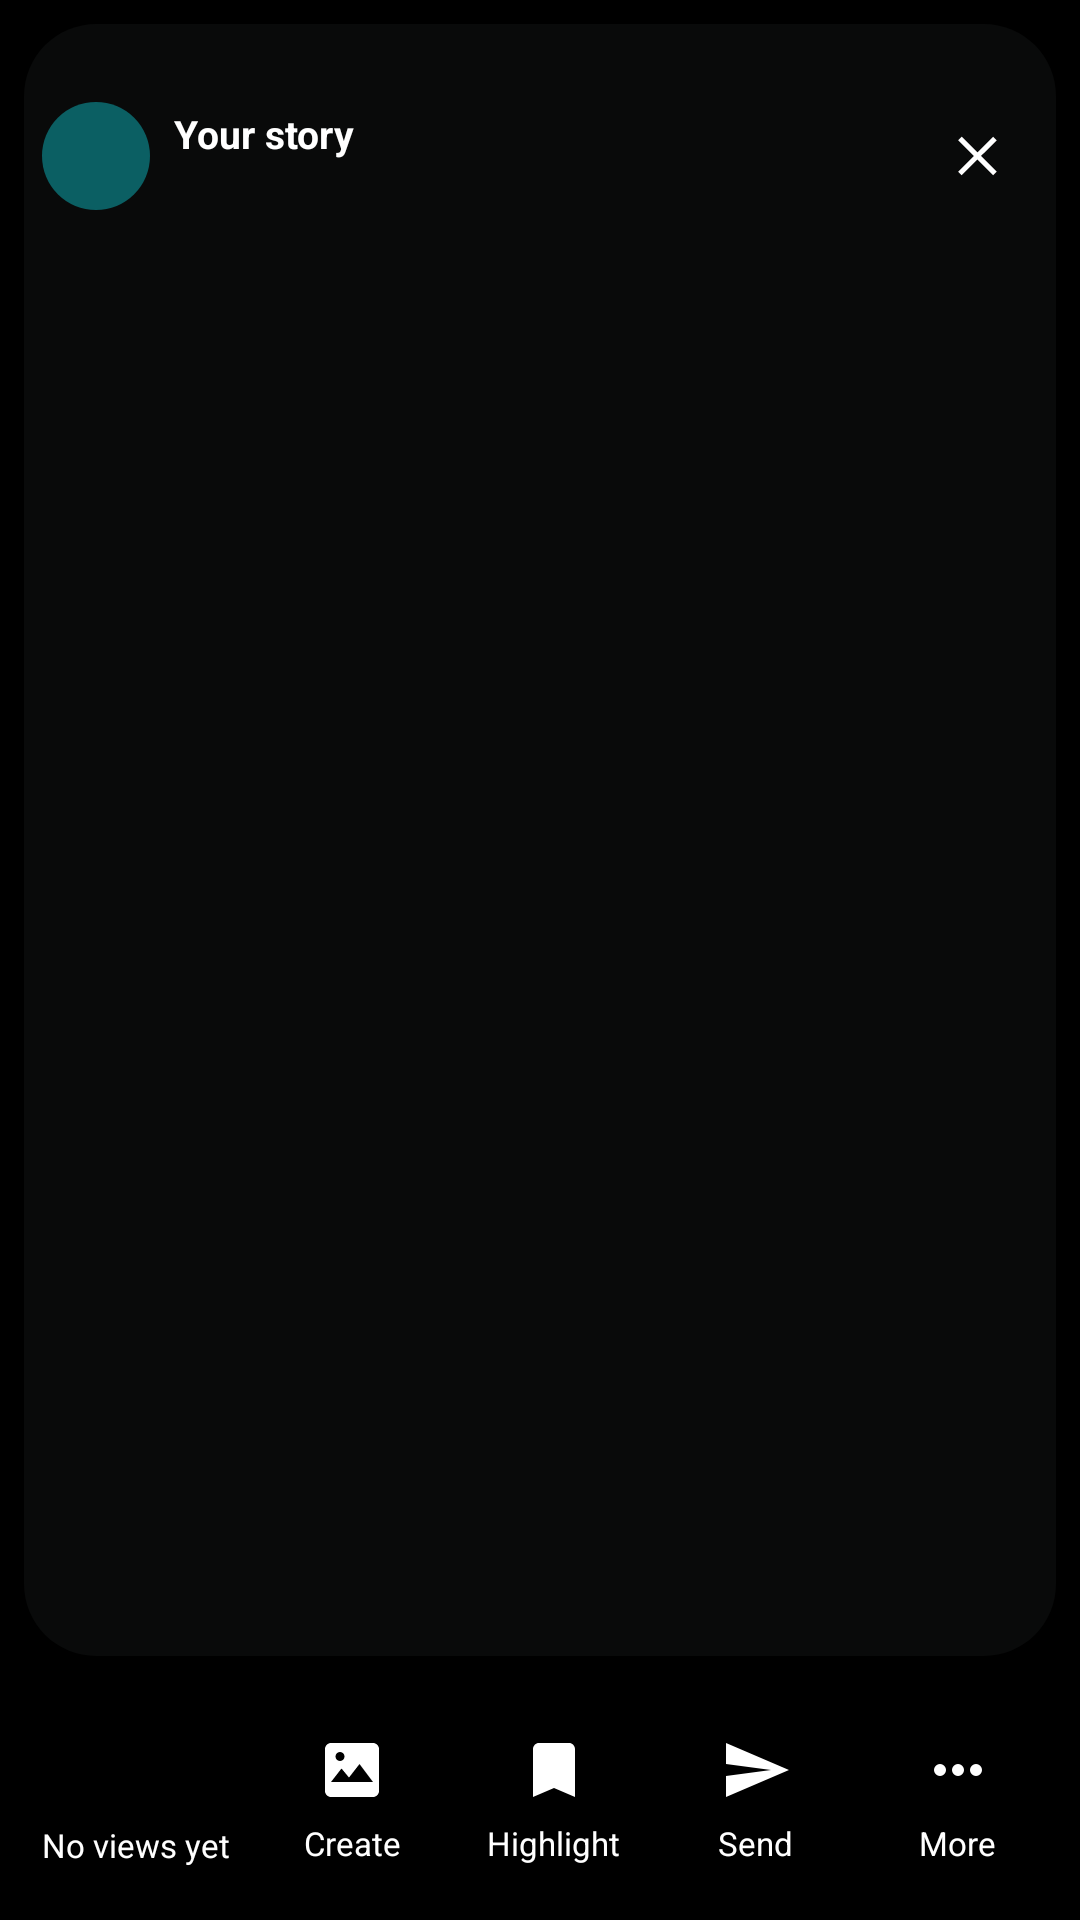

Locate icon controls on the screen. Image size 1080w x 1920h, boxes as (x1, y1, x2, y2).
bookmark: (533, 1743, 575, 1797)
Close: (958, 136, 997, 175)
